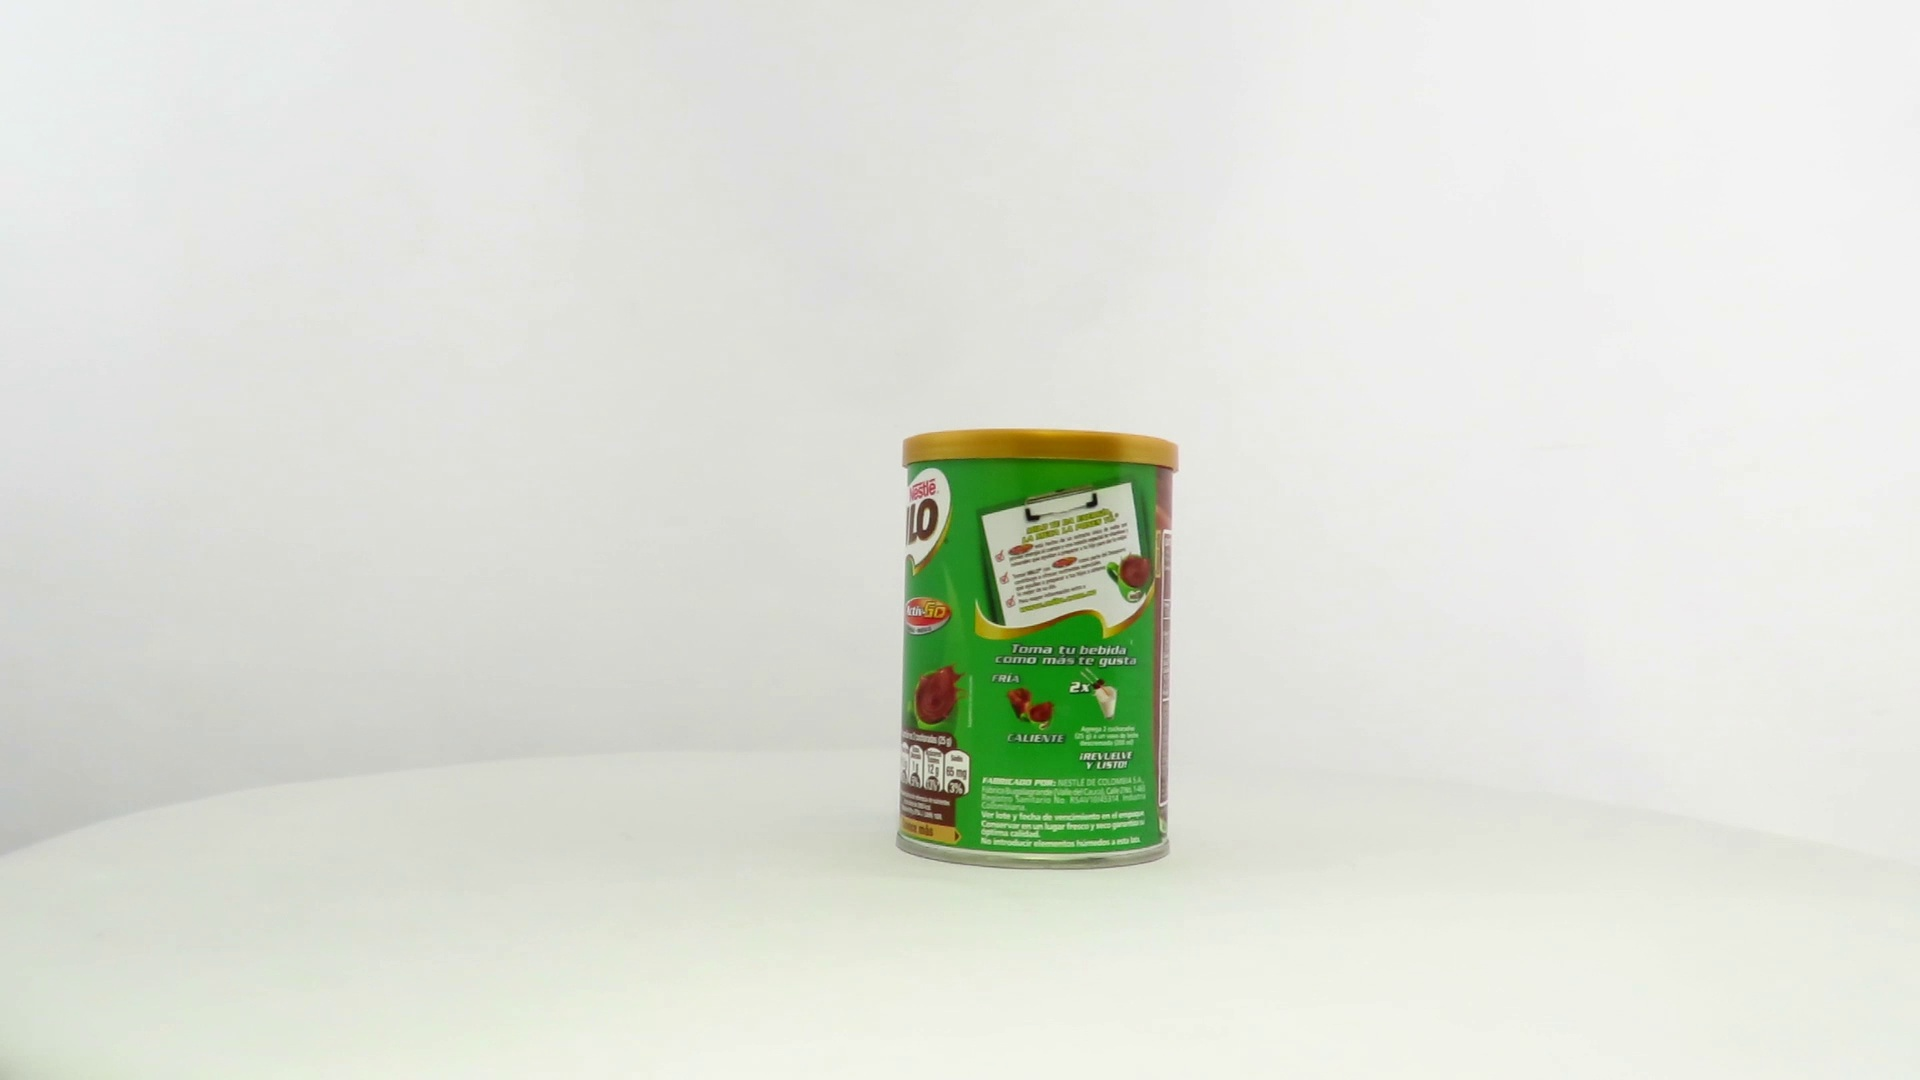COL0170203LAT20000: (890, 423, 1185, 876)
